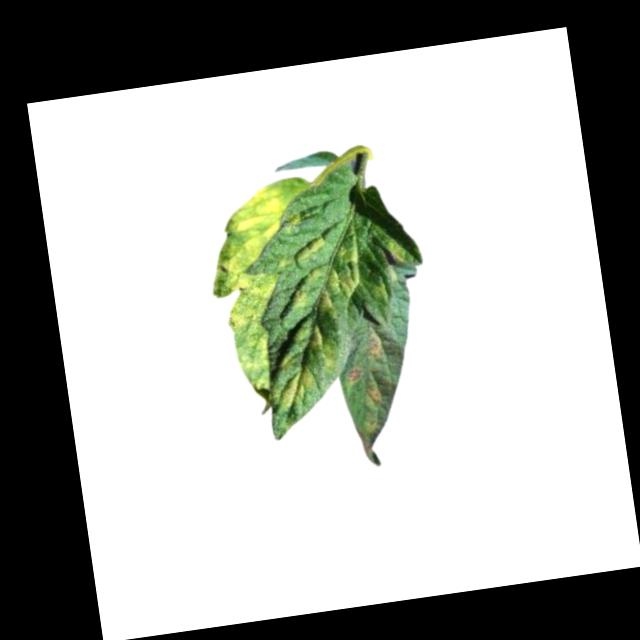Leaf_Mold: (258, 232, 379, 416), (340, 333, 405, 465), (212, 182, 292, 289), (222, 282, 289, 390)
